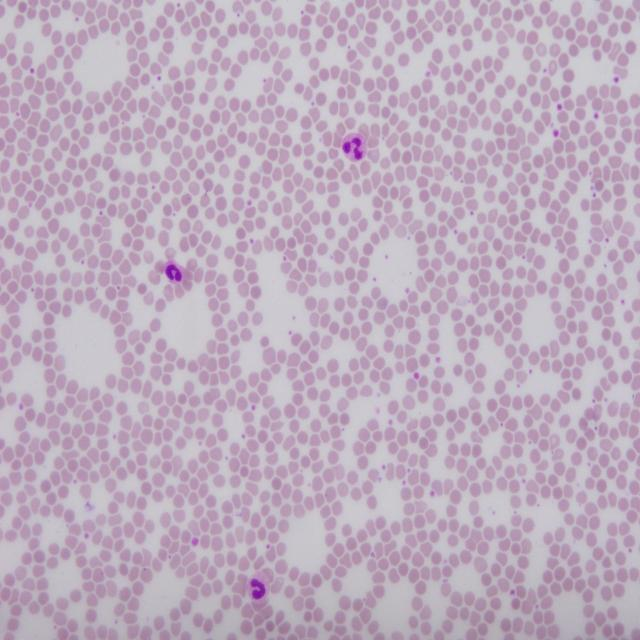cell: (341, 132, 368, 163)
